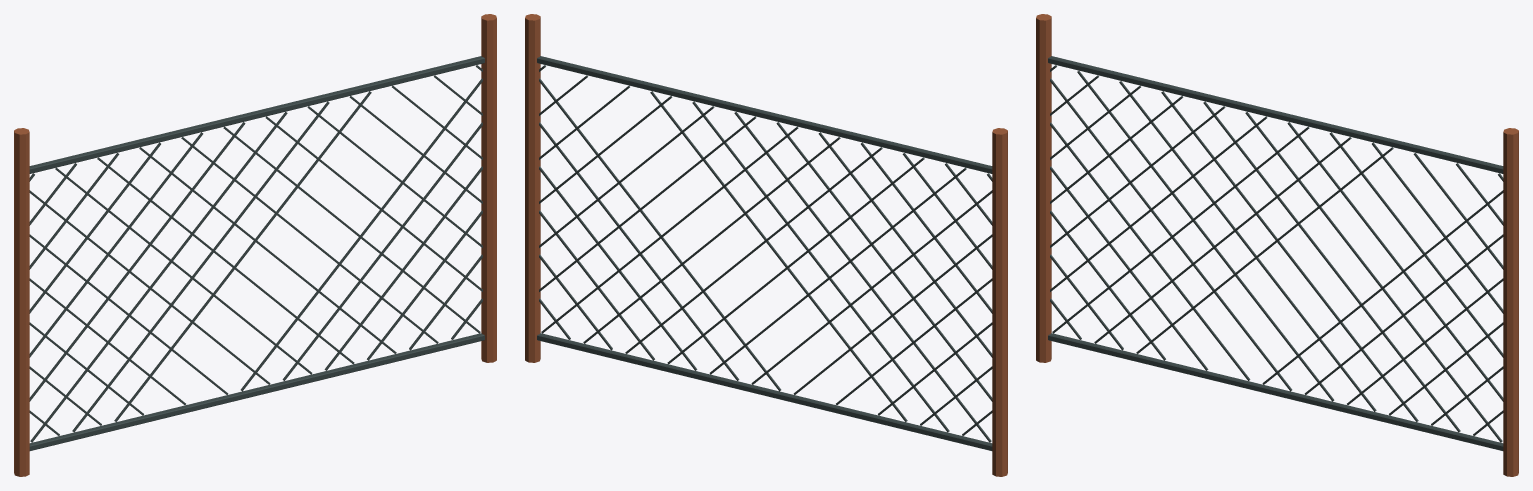
File: Fence_3m.glb
The picture shows the model from 3 angles, left to right: view 1: azimuth 30°, elevation 25°; view 2: azimuth 150°, elevation 25°; view 3: azimuth 330°, elevation 25°; orthographic projection.
Parts seen in each view (by area): view 1: Fence_3m; view 2: Fence_3m; view 3: Fence_3m.
Boxes of the visible parts, x1=… form: Fence_3m: x1=14, y1=14, x2=496, y2=476; Fence_3m: x1=525, y1=14, x2=1007, y2=476; Fence_3m: x1=1036, y1=14, x2=1518, y2=476.
Size of the model in its own units: 3.09 by 2.1 by 0.09.
